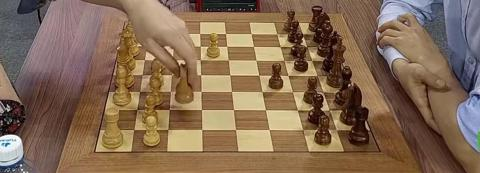xcorner: (223, 31, 229, 37), (197, 31, 203, 37), (278, 44, 284, 50), (251, 44, 257, 50), (143, 43, 149, 49), (169, 57, 175, 63), (168, 72, 174, 78), (290, 89, 296, 95), (300, 127, 306, 133), (171, 31, 177, 36), (224, 44, 230, 49), (197, 44, 203, 49), (170, 44, 176, 49), (310, 58, 315, 64), (282, 58, 287, 64), (141, 57, 146, 63), (315, 73, 320, 79), (286, 73, 291, 79), (227, 73, 233, 78), (139, 72, 144, 78), (260, 89, 265, 95), (229, 89, 234, 95), (198, 89, 204, 94), (167, 89, 173, 94), (136, 89, 142, 94), (295, 107, 300, 113), (263, 107, 268, 113), (231, 107, 236, 113), (166, 107, 172, 112), (334, 127, 339, 133), (267, 127, 272, 133), (301, 32, 306, 37), (275, 32, 280, 37), (249, 32, 254, 37), (145, 31, 150, 36), (305, 45, 310, 50), (254, 58, 259, 63), (226, 58, 231, 63), (198, 58, 203, 63), (257, 73, 262, 78), (198, 73, 203, 78), (321, 90, 326, 95), (327, 108, 332, 113), (199, 107, 204, 112), (134, 107, 139, 112), (233, 127, 238, 132), (199, 127, 204, 132), (165, 127, 170, 132), (131, 127, 136, 132)
